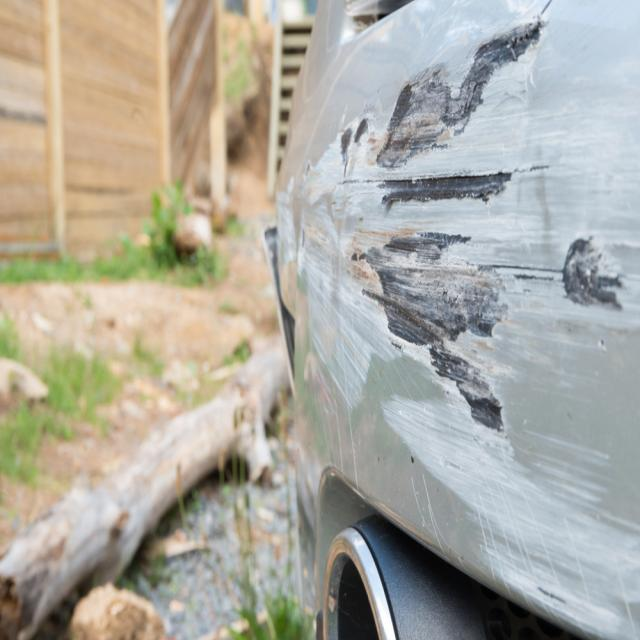scratch: (274, 0, 640, 640)
